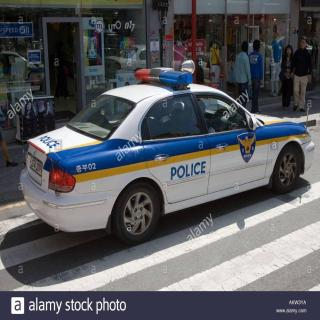Police_car: (22, 65, 312, 231)
